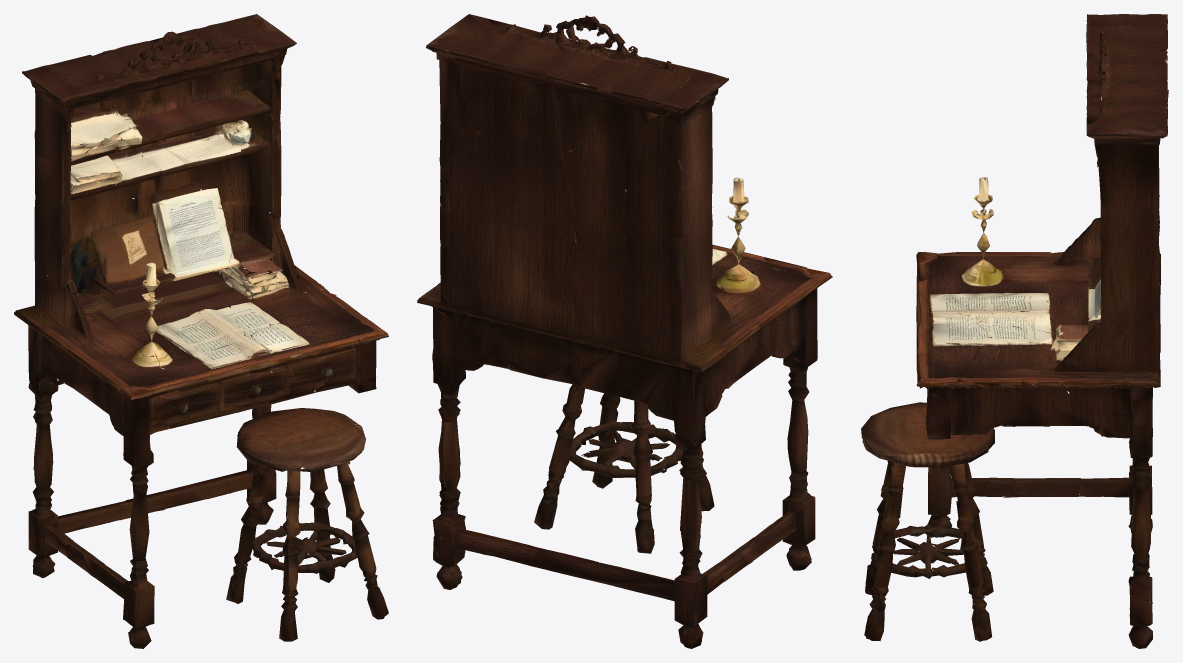
File: clerk-desk.glb
3 views of the same model, side by side, from view 1: azimuth 30°, elevation 25°; view 2: azimuth 150°, elevation 25°; view 3: azimuth 270°, elevation 25° (orthographic). The views are drawn at different scales.
Parts seen in each view (by area): view 1: Mesh_0; view 2: Mesh_0; view 3: Mesh_0.
Boxes of the visible parts, x1,y1,x2,y2 form: Mesh_0: [14, 14, 388, 648]; Mesh_0: [417, 14, 832, 648]; Mesh_0: [861, 14, 1168, 648].
Size of the model in its own units: 0.9692 by 1.9 by 0.9595.
Materials: 1 (1 with a texture image).
